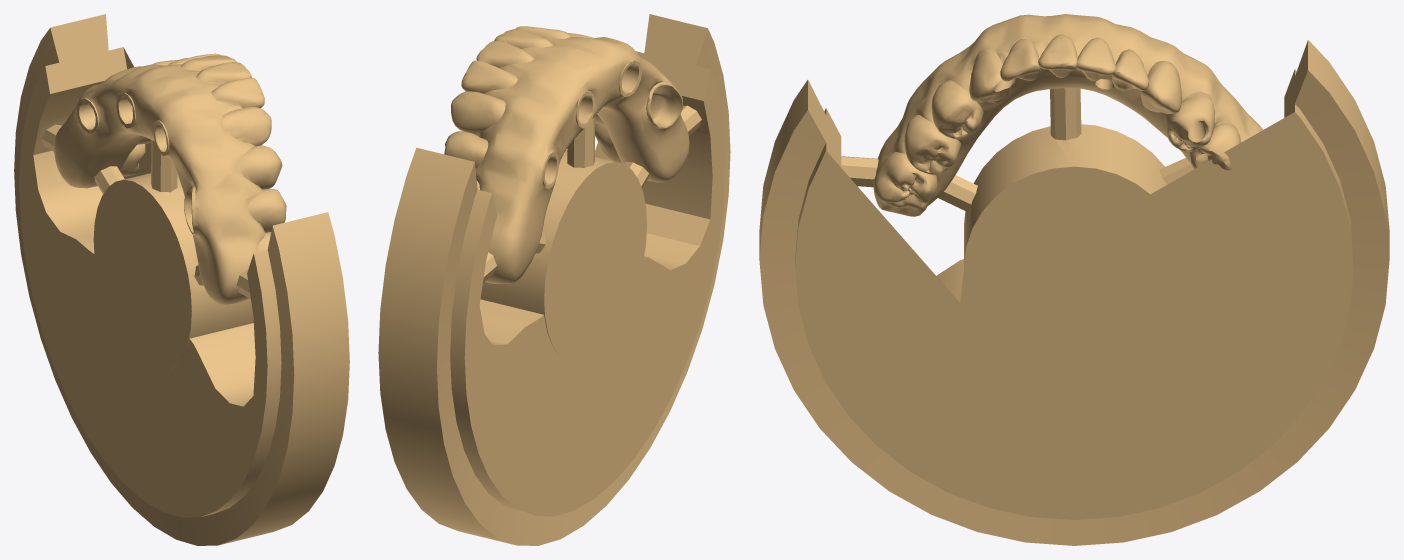
The picture shows the model from 3 angles, left to right: view 1: azimuth 30°, elevation 25°; view 2: azimuth 150°, elevation 25°; view 3: azimuth 270°, elevation 25°; orthographic projection. The views are drawn at different scales.
Parts seen in each view (by area): view 1: Trays_PMMA; view 2: Trays_PMMA; view 3: Trays_PMMA.
Boxes of the visible parts, <box> form: Trays_PMMA: <box>14,14,349,545</box>; Trays_PMMA: <box>378,14,730,545</box>; Trays_PMMA: <box>759,14,1389,545</box>.
Bounding box in the file's own units: 2.25 × 8.31 × 9.4.
